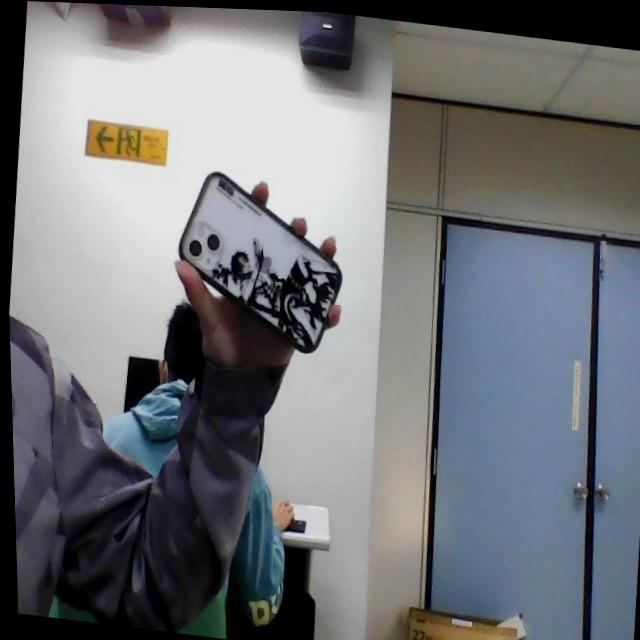Smartphone: (165, 155, 352, 368)
